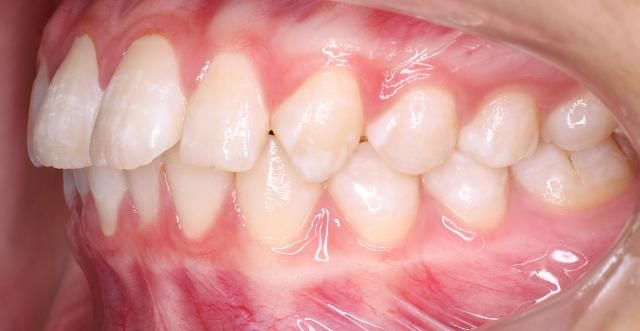canine class II 1/4: (232, 65, 422, 270)
molar class III 1/4: (510, 88, 640, 226)
